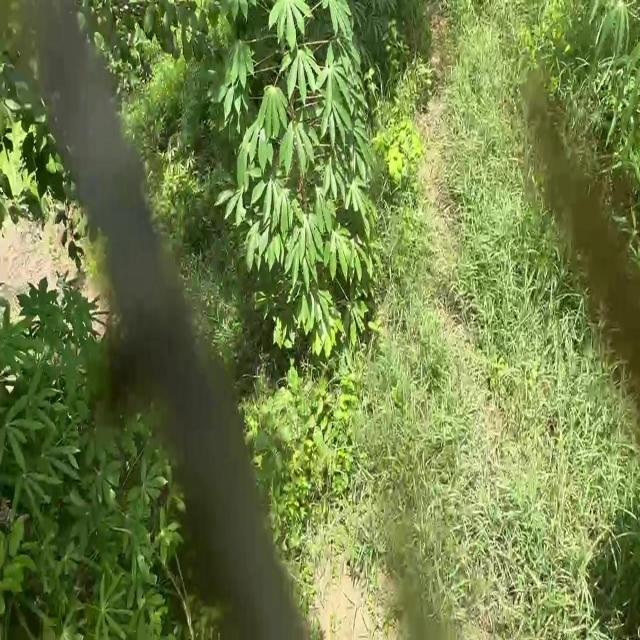Maleza: (440, 392, 635, 619), (288, 467, 506, 625), (450, 47, 533, 264), (475, 248, 577, 392), (252, 372, 415, 460), (397, 285, 501, 413), (381, 99, 441, 189)
